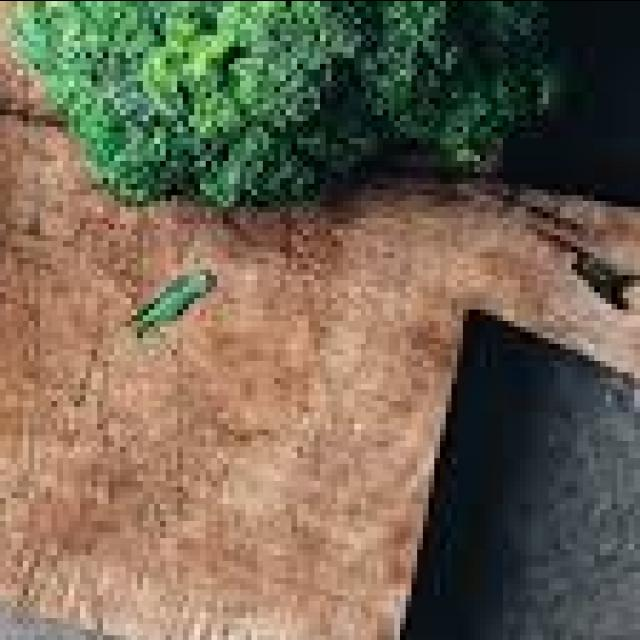broccoli: (11, 0, 566, 206)
